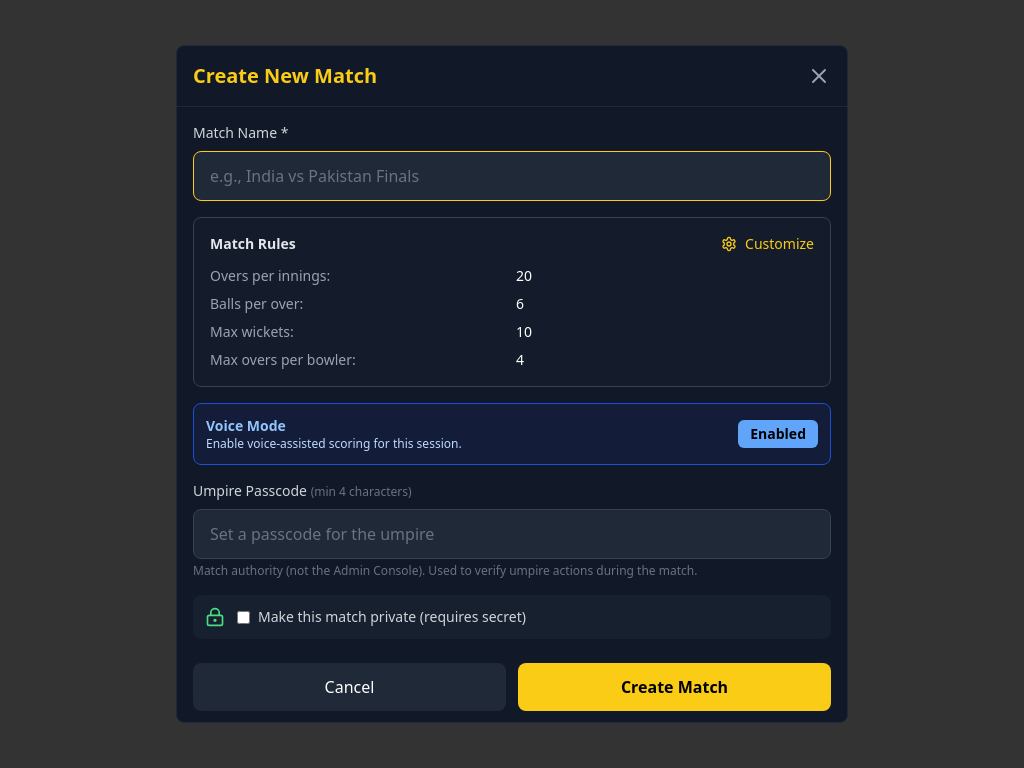
Test: CreateMatchModal › requires secret for private matches and allows public matches without secret
Later steps or results of the test are not shown.
Expected: the heading "Create New Match" is shown, [193,62,377,90]
Type "Private Match" into the field with placeholder "e.g., India vs Pakistan Finals" at (512, 176), box [193,151,831,201]
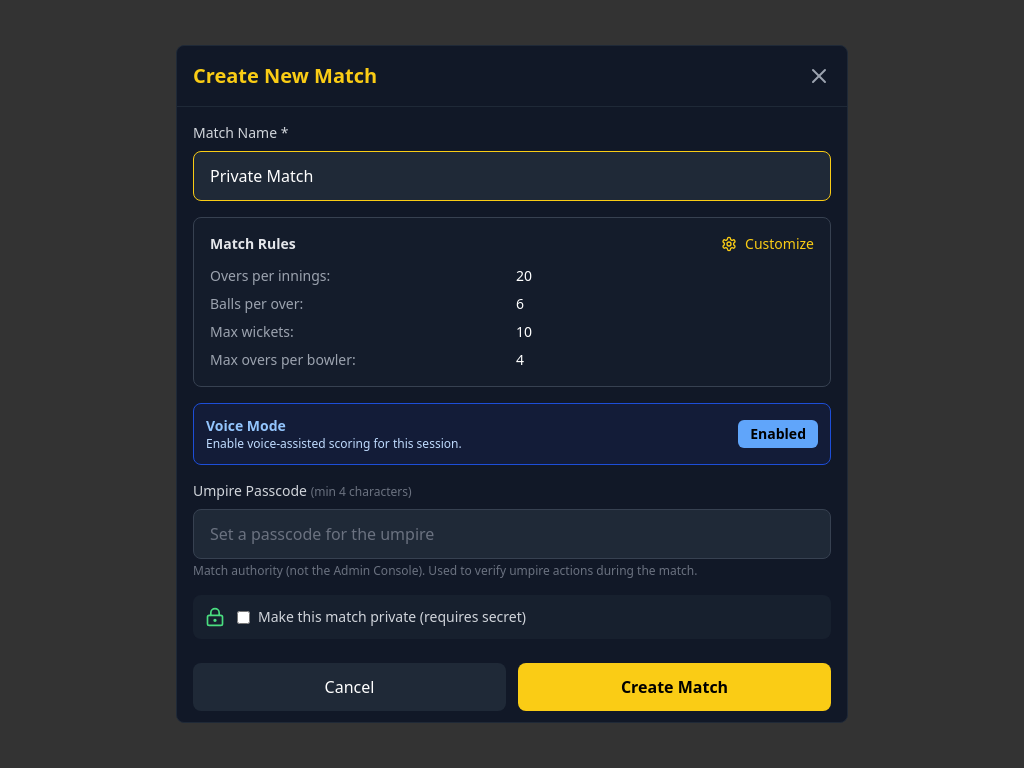
Type "1234" into the password field with placeholder "Set a passcode for the umpire" at (512, 534), box [193,509,831,559]
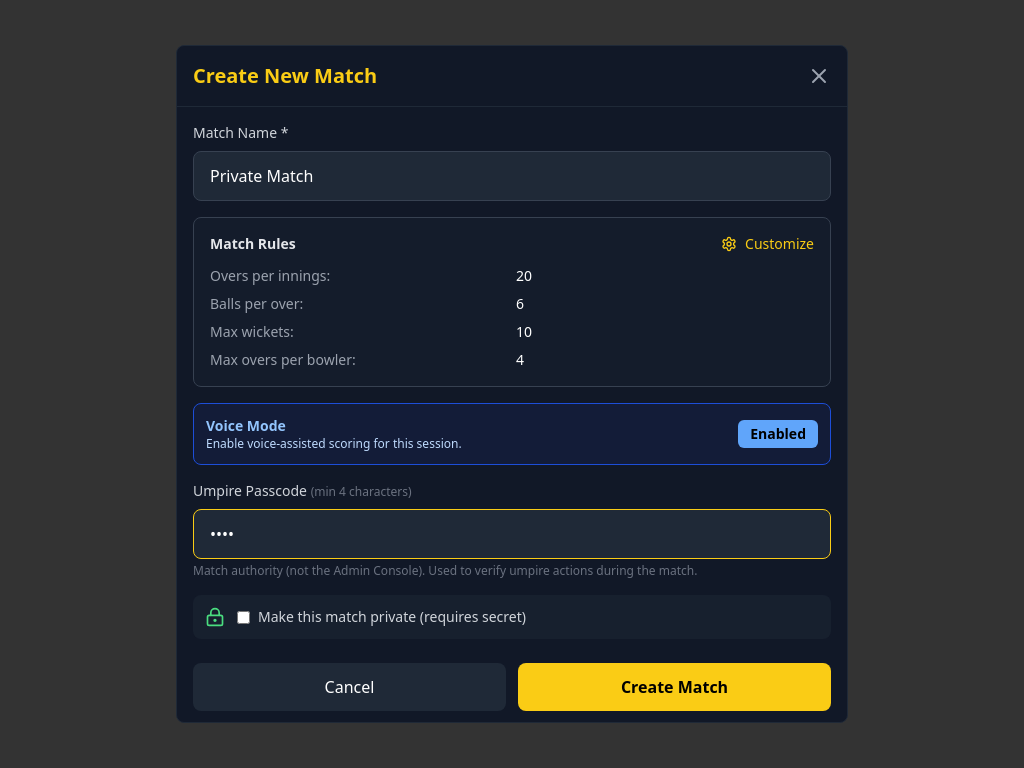
Click the checkbox at (244, 617), box [237,611,250,624]
(page scrolled)
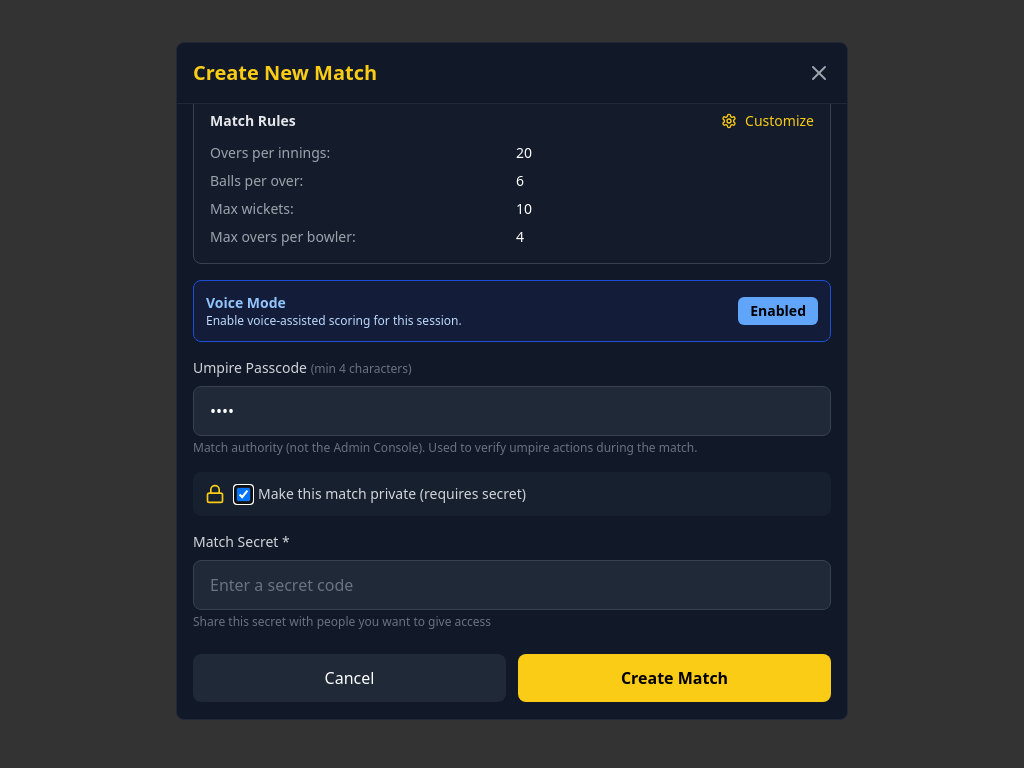
Click the button "Create Match" at (674, 678), box [518,654,831,702]
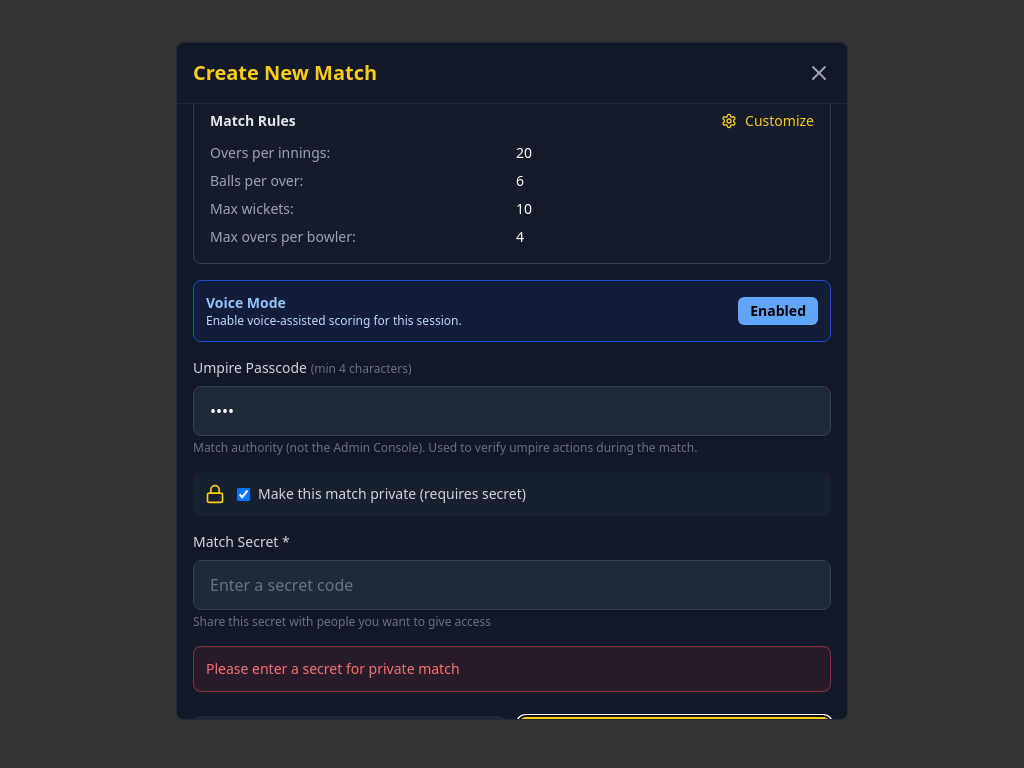
Expected: the text "Please enter a secret for private match" is shown, [206,659,460,678]
